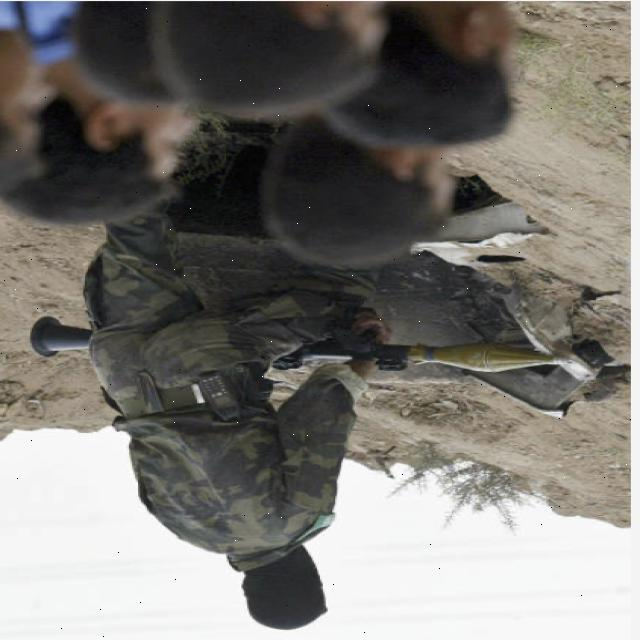bazooka: (22, 319, 583, 385)
